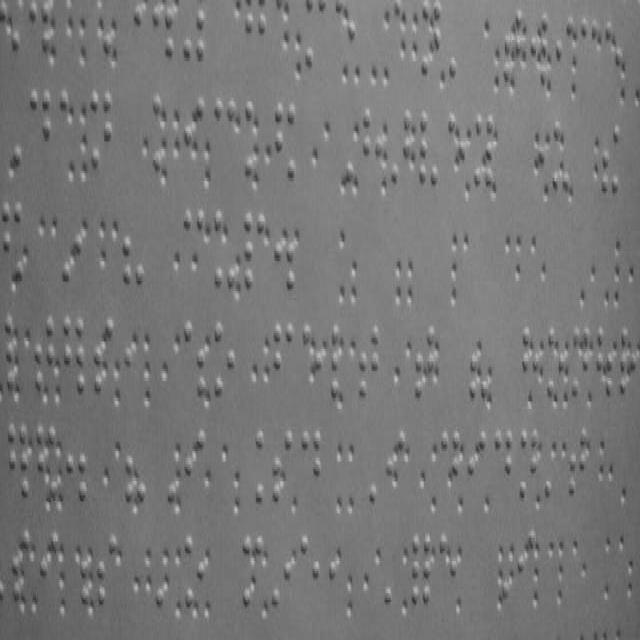braiile: (27, 84, 53, 169), (89, 86, 113, 176), (212, 96, 236, 184), (356, 320, 380, 404), (242, 210, 266, 292), (212, 319, 236, 401), (33, 311, 56, 396), (298, 532, 322, 610), (272, 318, 294, 398), (300, 426, 322, 504), (182, 532, 204, 610), (95, 533, 117, 609), (492, 427, 514, 502), (362, 108, 382, 190), (418, 109, 438, 189), (518, 429, 538, 500), (568, 426, 588, 494)
